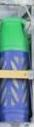cylinder: (0, 1, 34, 127)
